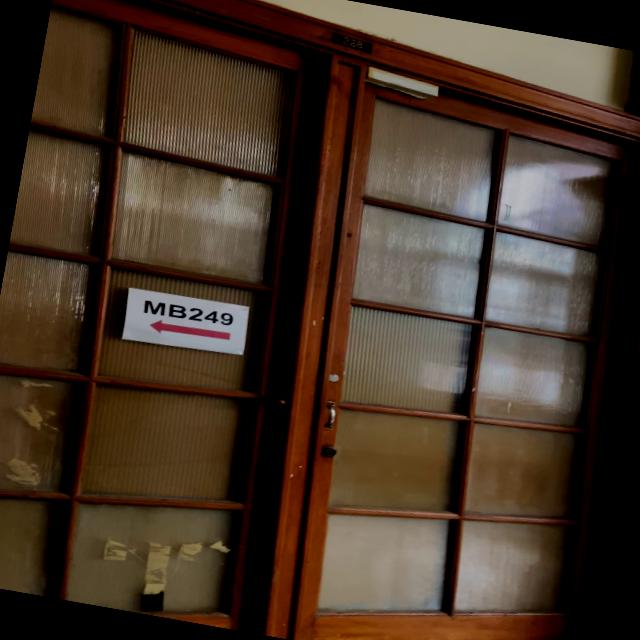room228: (330, 31, 376, 54)
